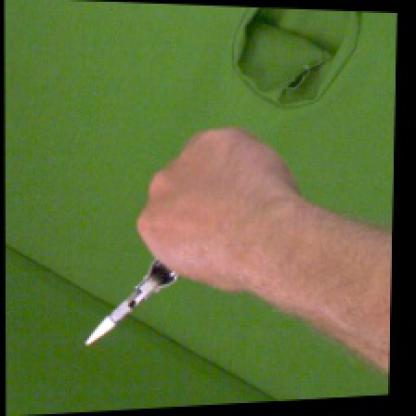Hand: (135, 126, 299, 292)
